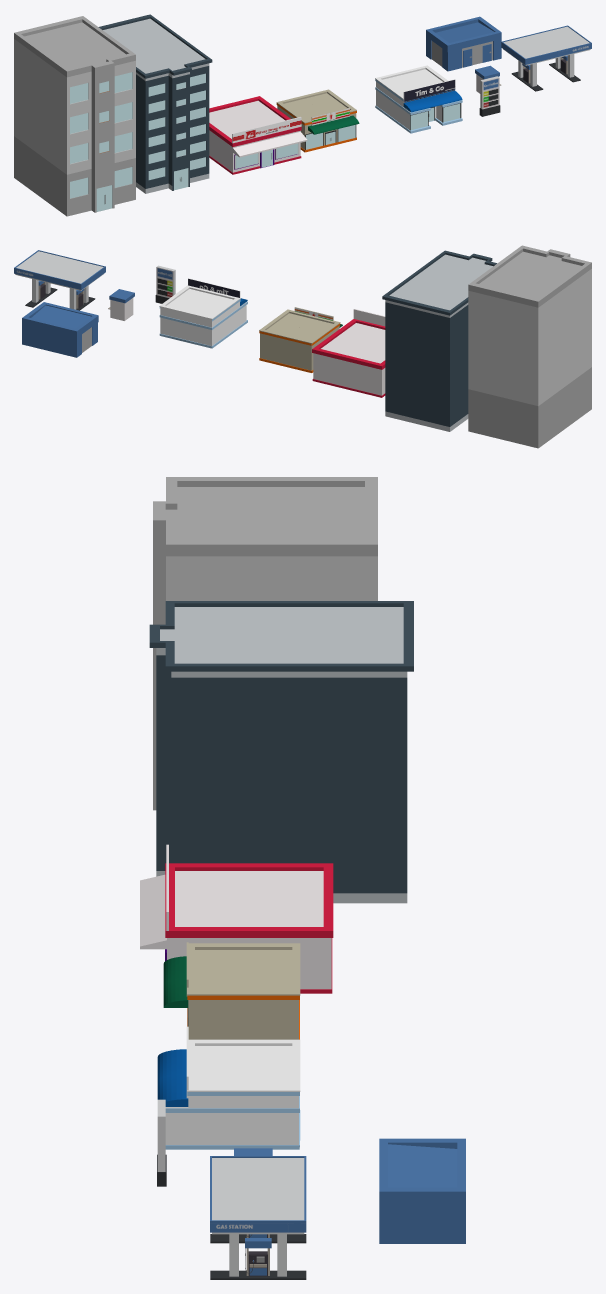
File: Buildings.fbx
3 renders of one model, top to bottom at view 1: azimuth 30°, elevation 25°; view 2: azimuth 150°, elevation 25°; view 3: azimuth 270°, elevation 25°, orthographic. The views are drawn at different scales.
Parts seen in each view (by area): view 1: Building3, Building4, Drugstore2, Convenience_store4, Convenience_store5, pCube8, gastStation, polySurface3, pCube7; view 2: Building3, Building4, Drugstore2, Convenience_store4, Convenience_store5, pCube8, gastStation, pCube7, polySurface3; view 3: Building4, Building3, Drugstore2, Convenience_store4, Convenience_store5, gastStation, pCube8.
Boxes of the visible parts, <box> form: Building3: <box>14,16,135,216</box>; Building4: <box>98,14,212,193</box>; Drugstore2: <box>209,96,307,174</box>; Convenience_store4: <box>375,65,462,133</box>; Convenience_store5: <box>276,89,359,152</box>; pCube8: <box>426,16,501,71</box>; gastStation: <box>501,25,591,91</box>; polySurface3: <box>479,76,500,116</box>; pCube7: <box>475,65,501,93</box>; Building3: <box>468,245,591,448</box>; Building4: <box>382,250,496,431</box>; Drugstore2: <box>312,309,385,397</box>; Convenience_store4: <box>159,278,247,348</box>; Convenience_store5: <box>259,307,342,372</box>; pCube8: <box>22,302,98,357</box>; gastStation: <box>14,250,105,310</box>; pCube7: <box>108,289,134,320</box>; polySurface3: <box>155,265,175,303</box>; Building4: <box>149,601,413,903</box>; Building3: <box>153,477,377,810</box>; Drugstore2: <box>140,844,333,993</box>; Convenience_store4: <box>157,1026,300,1149</box>; Convenience_store5: <box>163,942,300,1039</box>; gastStation: <box>210,1156,306,1279</box>; pCube8: <box>379,1138,465,1243</box>.
Bounding box in the file's own units: 559 × 145 × 147.
6 materials, 6 textured.
